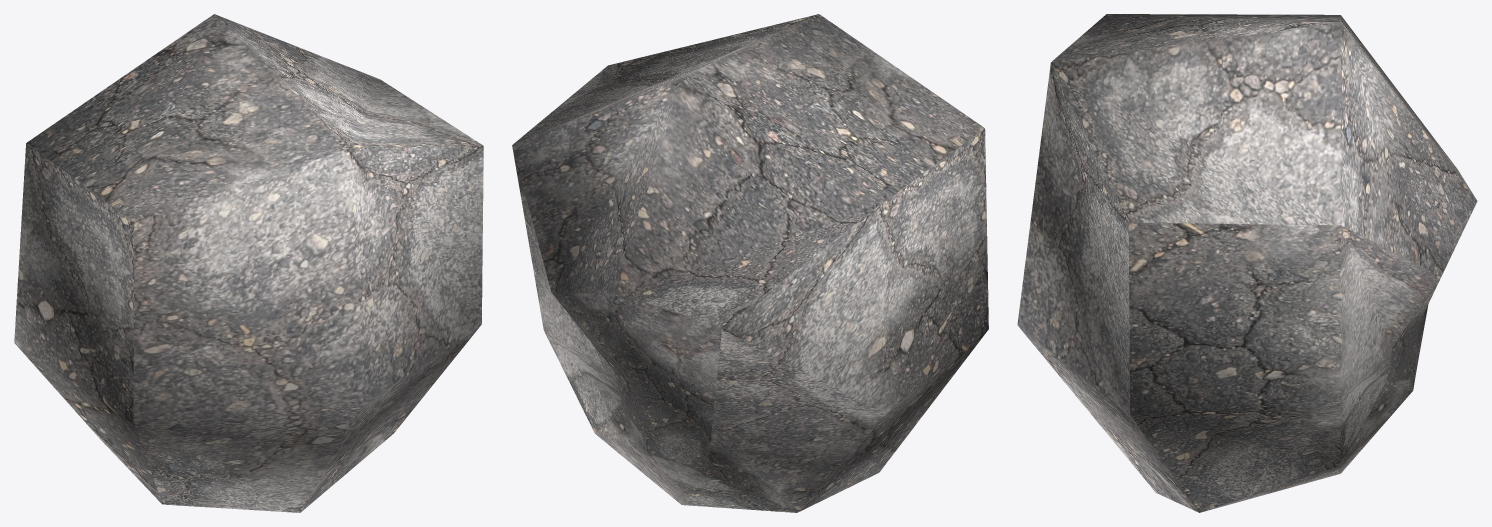
Rendered from Peeble.fbx.
3 views of the same model, side by side, from view 1: azimuth 30°, elevation 25°; view 2: azimuth 150°, elevation 25°; view 3: azimuth 270°, elevation 25° (orthographic). The views are drawn at different scales.
Visible parts, largest first — view 1: Rock; view 2: Rock; view 3: Rock.
Boxes of the visible parts, <box> form: Rock: <box>14,14,483,512</box>; Rock: <box>512,14,988,512</box>; Rock: <box>1017,14,1477,512</box>.
Bounding box in the file's own units: 18.14 × 20.38 × 18.14.
Materials: 1 (1 with a texture image).
